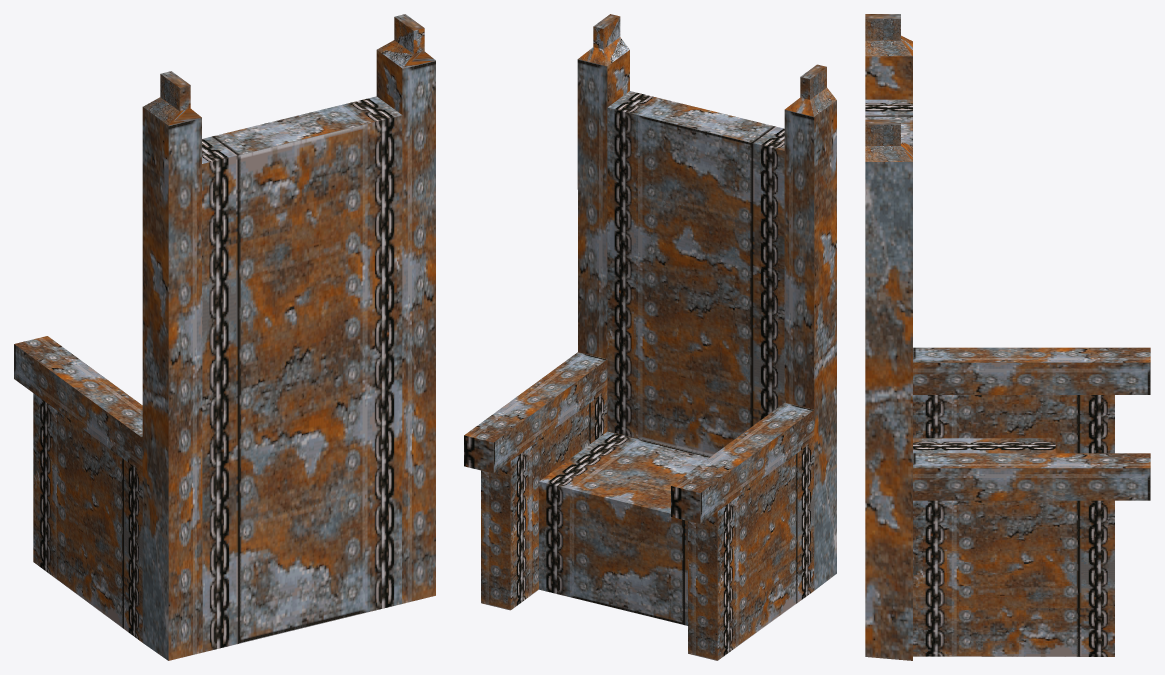
Rendered from Big Chair.glb.
The picture shows the model from 3 angles, left to right: view 1: azimuth 30°, elevation 25°; view 2: azimuth 150°, elevation 25°; view 3: azimuth 270°, elevation 25°; orthographic projection. The views are drawn at different scales.
Parts seen in each view (by area): view 1: object_3; view 2: object_3; view 3: object_3.
Boxes of the visible parts, <box> form: object_3: <box>14,14,435,660</box>; object_3: <box>464,14,836,660</box>; object_3: <box>865,14,1150,660</box>.
Size of the model in its own units: 172 by 352 by 172.
1 material, 1 textured.
